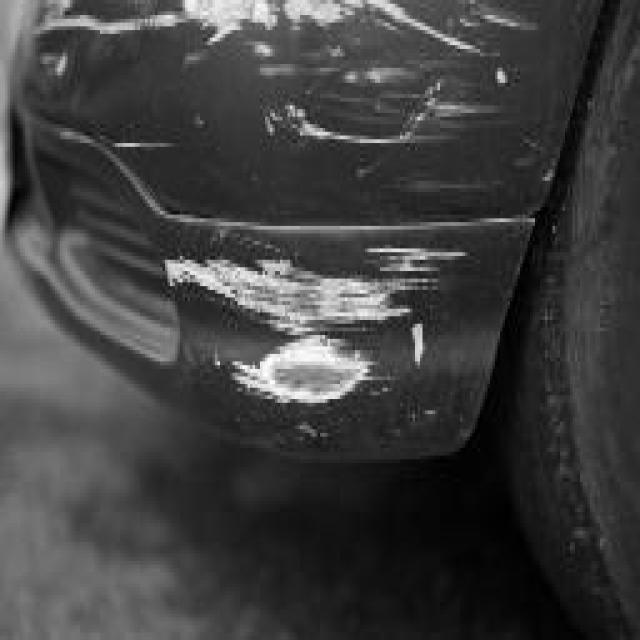Bumper: (15, 4, 578, 459)
